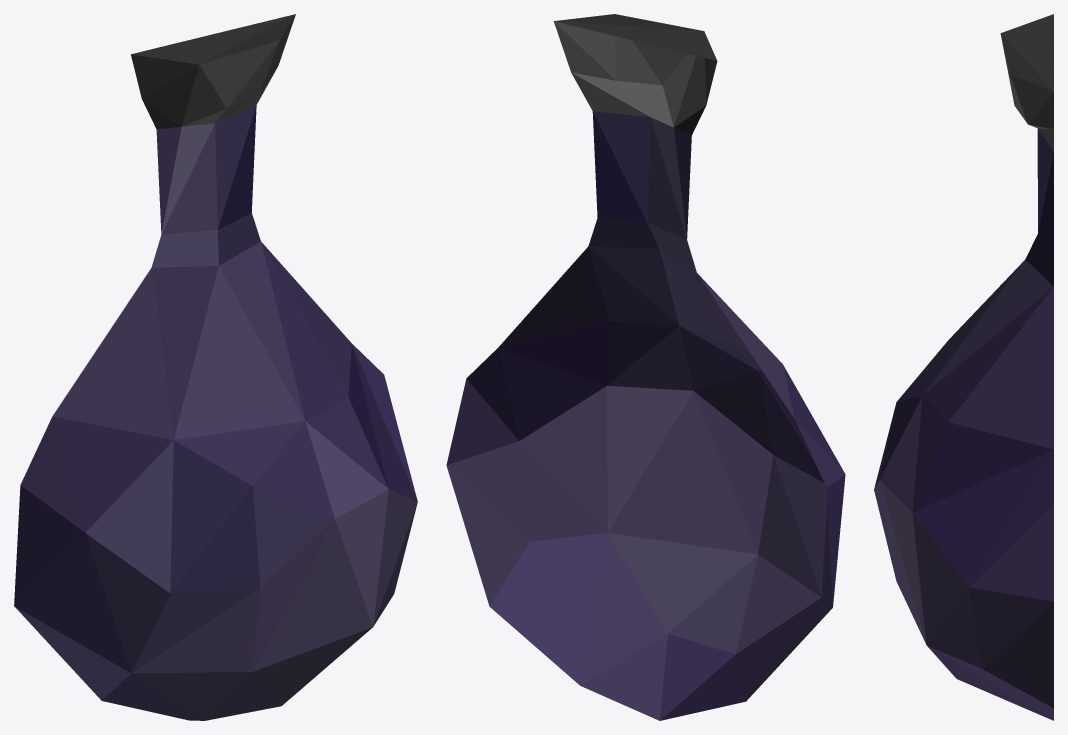
The model's file is Symbol-Items.fbx.
The picture shows the model from 3 angles, left to right: view 1: azimuth 30°, elevation 25°; view 2: azimuth 150°, elevation 25°; view 3: azimuth 270°, elevation 25°; orthographic projection. The views are drawn at different scales.
Visible parts, largest first — view 1: Symbol-Items; view 2: Symbol-Items; view 3: Symbol-Items.
Part boxes in pixels (x1=…): Symbol-Items: x1=14, y1=14, x2=417, y2=720; Symbol-Items: x1=446, y1=14, x2=845, y2=720; Symbol-Items: x1=874, y1=14, x2=1053, y2=720.
Size of the model in its own units: 64.2 by 107 by 26.55.
